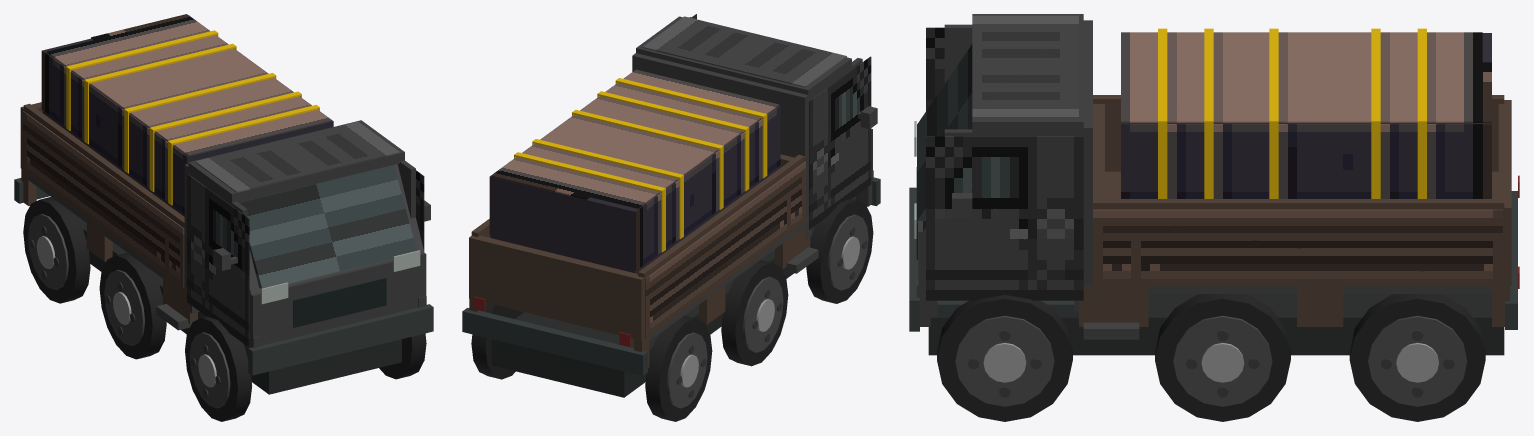
File: CMU3DRMCPropVehicleSmallTruckBrownCargo.glb
The picture shows the model from 3 angles, left to right: view 1: azimuth 30°, elevation 25°; view 2: azimuth 150°, elevation 25°; view 3: azimuth 270°, elevation 25°; orthographic projection. The views are drawn at different scales.
Parts seen in each view (by area): view 1: original strapped load top, continuous sloped windshield, original cargo side -1, original cab door -1, original strapped load side -1, original cab roof, cab lower front, front bumper, ladder chassis, tire 3 -1, tire 2 -1, tire 1 -1 (+25 smaller); view 2: original strapped load top, tailgate, strapped load core, original cargo side -1, original cab door -1, original strapped load side -1, original cab roof, ladder chassis, rear bumper, cab rear wall, tire 2 -1, tire 3 -1 (+20 smaller); view 3: original cargo side 1, original strapped load top, original cab door 1, original strapped load side 1, original cab roof, ladder chassis, tire 3 1, tire 2 1, tire 1 1, rim 2 1, rim 1 1, rim 3 1 (+33 smaller).
Part boxes in pixels (x1=…): original strapped load top: x1=47, y1=14, x2=331, y2=156; continuous sloped windshield: x1=239, y1=165, x2=416, y2=288; original cargo side -1: x1=23, y1=111, x2=184, y2=288; original cab door -1: x1=187, y1=173, x2=249, y2=347; original strapped load side -1: x1=41, y1=50, x2=187, y2=213; original cab roof: x1=195, y1=121, x2=399, y2=192; cab lower front: x1=249, y1=252, x2=426, y2=346; front bumper: x1=248, y1=304, x2=433, y2=375; ladder chassis: x1=76, y1=215, x2=401, y2=394; tire 3 -1: x1=23, y1=197, x2=90, y2=303; tire 2 -1: x1=99, y1=252, x2=166, y2=359; tire 1 -1: x1=185, y1=316, x2=251, y2=421; original strapped load top: x1=491, y1=69, x2=778, y2=208; tailgate: x1=469, y1=235, x2=646, y2=340; strapped load core: x1=490, y1=105, x2=779, y2=273; original cargo side -1: x1=645, y1=161, x2=805, y2=338; original cab door -1: x1=809, y1=56, x2=871, y2=229; original strapped load side -1: x1=635, y1=106, x2=780, y2=270; original cab roof: x1=642, y1=16, x2=846, y2=87; ladder chassis: x1=491, y1=236, x2=811, y2=397; rear bumper: x1=462, y1=308, x2=647, y2=375; cab rear wall: x1=632, y1=53, x2=811, y2=240; tire 2 -1: x1=721, y1=260, x2=788, y2=366; tire 3 -1: x1=645, y1=315, x2=712, y2=421; original cargo side 1: x1=1093, y1=209, x2=1502, y2=286; original strapped load top: x1=1121, y1=32, x2=1491, y2=122; original cab door 1: x1=926, y1=136, x2=1083, y2=300; original strapped load side 1: x1=1121, y1=124, x2=1491, y2=198; original cab roof: x1=972, y1=15, x2=1078, y2=118; ladder chassis: x1=928, y1=294, x2=1504, y2=355; tire 3 1: x1=1349, y1=294, x2=1485, y2=421; tire 2 1: x1=1155, y1=294, x2=1290, y2=421; tire 1 1: x1=937, y1=295, x2=1072, y2=421; rim 2 1: x1=1173, y1=315, x2=1272, y2=406; rim 1 1: x1=955, y1=315, x2=1054, y2=406; rim 3 1: x1=1368, y1=315, x2=1467, y2=406.
Bounding box in the file's own units: 1.04 × 1.1 × 2.06.
Materials: 26 (6 with a texture image).
